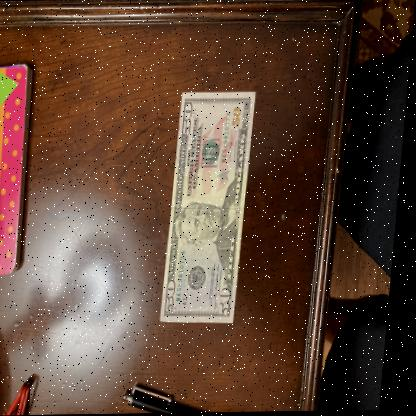fifty-front: (166, 90, 258, 324)
